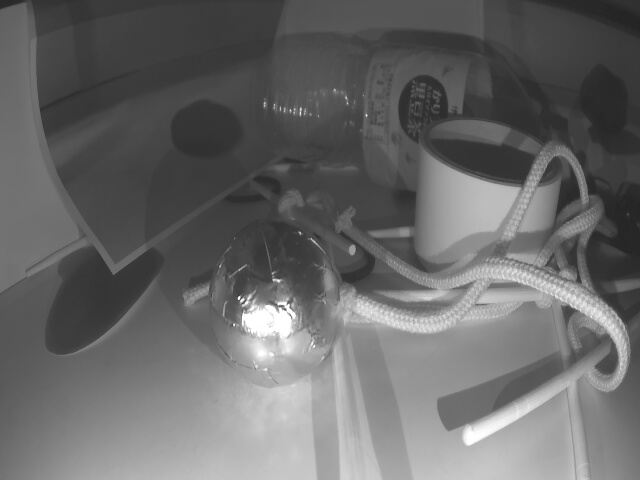Live: (208, 226, 344, 389)
